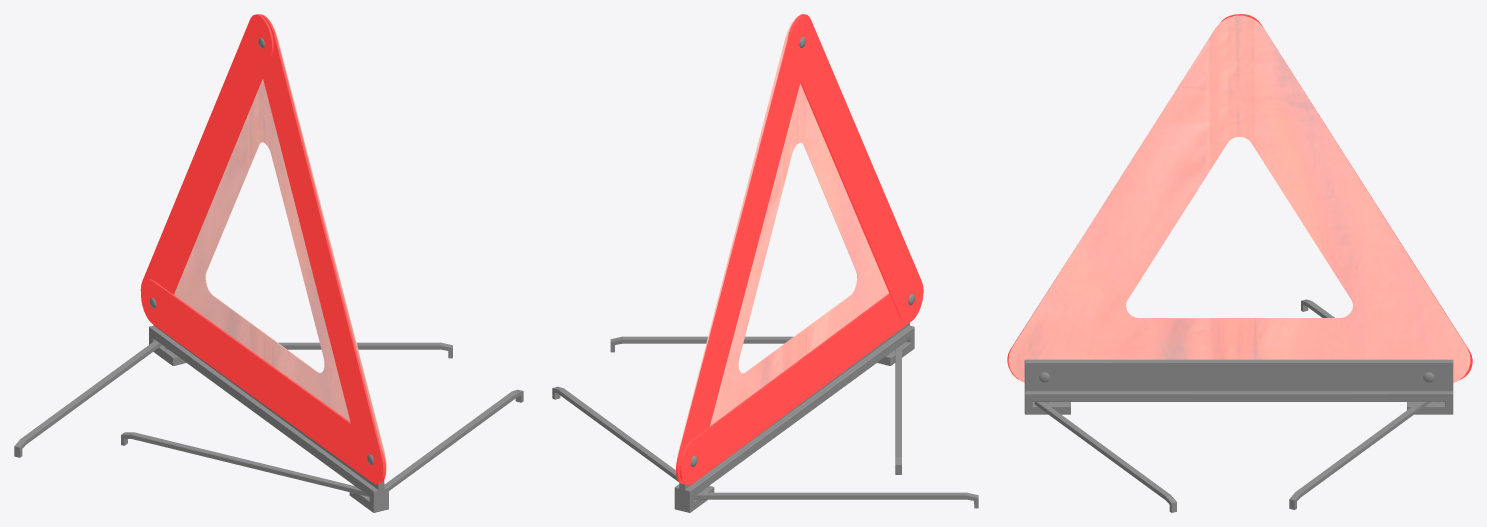
The model's file is WarningTriangle.glb.
3 views of the same model, side by side, from view 1: azimuth 30°, elevation 25°; view 2: azimuth 150°, elevation 25°; view 3: azimuth 270°, elevation 25° (orthographic). The views are drawn at different scales.
Parts seen in each view (by area): view 1: sanjiaojia; view 2: sanjiaojia; view 3: sanjiaojia.
Boxes of the visible parts, x1,y1,x2,y2 form: sanjiaojia: [14, 14, 523, 512]; sanjiaojia: [552, 14, 978, 512]; sanjiaojia: [1007, 14, 1472, 512].
Bounding box in the file's own units: 0.748 × 0.6749 × 0.7215.
3 materials, 1 textured.
